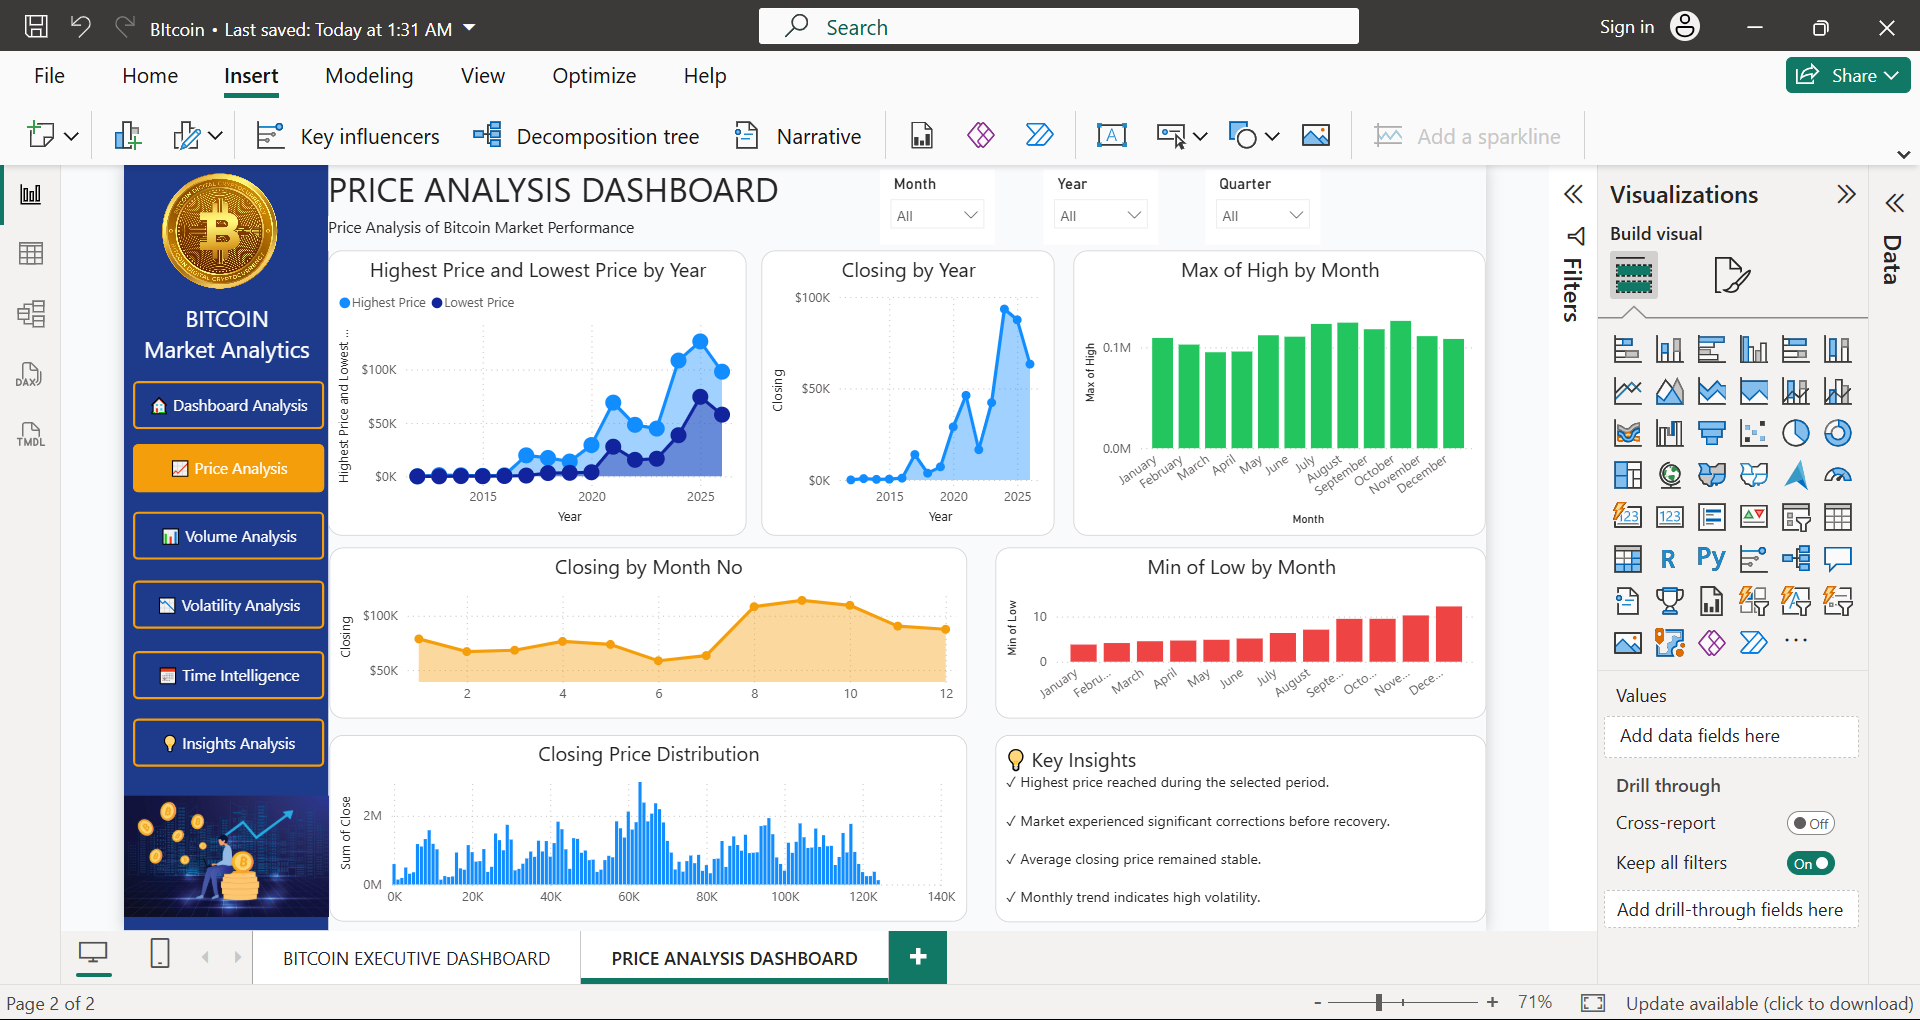

Layout of this report page (visuals, bound fields, positions):
{"tool":"powerbi","page":{"name":"PRICE ANALYSIS DASHBOARD","canvas":[1280,720],"ordinal":1},"visuals":[{"type":"shape","box":[0,0,192.3,719.2],"z":0},{"type":"image","box":[0,0,180.2,124.2],"z":1000},{"type":"textbox","box":[1.5,124.1,190.6,80.2],"z":2000},{"type":"actionButton","box":[7.8,203.2,179.7,45.3],"z":3000},{"type":"actionButton","box":[7.8,262.6,179.7,45.3],"z":4000},{"type":"actionButton","box":[7.8,390.7,179.7,45.3],"z":5000},{"type":"actionButton","box":[7.8,325.1,179.7,45.3],"z":6000},{"type":"actionButton","box":[7.8,456.4,179.7,45.3],"z":7000},{"type":"actionButton","box":[7.8,520.5,179.7,45.3],"z":8000},{"type":"image","box":[0,579,192.5,140.4],"z":9000},{"type":"shape","title":"PRICE ANALYSIS DASHBOARD","box":[191.8,0,1088.5,80.4],"z":10000},{"type":"shape","box":[701.8,0,578.3,79.7],"z":11000},{"type":"slicer","fields":{"Values":["Bitcoin_Cleaned_Daily.Month"]},"box":[711.2,4.7,107.8,70.3],"z":12000},{"type":"slicer","fields":{"Values":["Bitcoin_Cleaned_Daily.Year"]},"box":[864.3,4.7,107.8,70.3],"z":13000},{"type":"slicer","fields":{"Values":["Bitcoin_Cleaned_Daily.Quarter"]},"box":[1015.9,4.7,107.8,70.3],"z":14000},{"type":"lineChart","fields":{"Category":["Bitcoin_Cleaned_Daily.Date.Variation.Date Hierarchy.Year"],"Y":["Bitcoin_Cleaned_Daily.Highest Price","Bitcoin_Cleaned_Daily.Lowest Price"]},"box":[192.2,80.2,393.4,267.8],"z":15000},{"type":"lineChart","fields":{"Y":["Bitcoin_Cleaned_Daily.Closing"],"Category":["Bitcoin_Cleaned_Daily.Month No"]},"box":[193.7,360.1,599.1,160.4],"z":16000},{"type":"lineChart","fields":{"Category":["Bitcoin_Cleaned_Daily.Date.Variation.Date Hierarchy.Year"],"Y":["Bitcoin_Cleaned_Daily.Closing"]},"box":[599.1,80.2,275.4,267.8],"z":17000},{"type":"clusteredColumnChart","fields":{"Y":["Max(Bitcoin_Cleaned_Daily.High)"],"Category":["Bitcoin_Cleaned_Daily.Date.Variation.Date Hierarchy.Month"]},"box":[892.7,80.2,387.3,267.8],"z":18000},{"type":"clusteredColumnChart","fields":{"Category":["Bitcoin_Cleaned_Daily.Date.Variation.Date Hierarchy.Month"],"Y":["Min(Bitcoin_Cleaned_Daily.Low)"]},"box":[818.5,360.1,461.5,160.4],"z":19000},{"type":"clusteredColumnChart","title":"Closing Price Distribution","fields":{"Category":["Bitcoin_Cleaned_Daily.Close (bins)"],"Y":["Sum(Bitcoin_Cleaned_Daily.Close)"]},"box":[193.7,535.6,599.1,175.5],"z":20000},{"type":"textbox","box":[819,536,461,176],"z":21000}]}

Visuals, with their boxes on the page's 1280x720 design canvas (x1, y1, x2, y2). These are canvas units, not pixel positions in the 1920x1020 screenshot, which may show the page scaled, cropped or inside an application window:
shape: {"left": 0, "top": 0, "right": 192, "bottom": 719}
image: {"left": 0, "top": 0, "right": 180, "bottom": 124}
textbox: {"left": 2, "top": 124, "right": 192, "bottom": 204}
actionButton: {"left": 8, "top": 203, "right": 188, "bottom": 248}
actionButton: {"left": 8, "top": 263, "right": 188, "bottom": 308}
actionButton: {"left": 8, "top": 391, "right": 188, "bottom": 436}
actionButton: {"left": 8, "top": 325, "right": 188, "bottom": 370}
actionButton: {"left": 8, "top": 456, "right": 188, "bottom": 502}
actionButton: {"left": 8, "top": 520, "right": 188, "bottom": 566}
image: {"left": 0, "top": 579, "right": 192, "bottom": 719}
"PRICE ANALYSIS DASHBOARD" shape: {"left": 192, "top": 0, "right": 1280, "bottom": 80}
shape: {"left": 702, "top": 0, "right": 1280, "bottom": 80}
slicer - Bitcoin_Cleaned_Daily.Month: {"left": 711, "top": 5, "right": 819, "bottom": 75}
slicer - Bitcoin_Cleaned_Daily.Year: {"left": 864, "top": 5, "right": 972, "bottom": 75}
slicer - Bitcoin_Cleaned_Daily.Quarter: {"left": 1016, "top": 5, "right": 1124, "bottom": 75}
lineChart - Bitcoin_Cleaned_Daily.Date.Variation.Date Hierarchy.Year x Bitcoin_Cleaned_Daily.Highest Price: {"left": 192, "top": 80, "right": 586, "bottom": 348}
lineChart - Bitcoin_Cleaned_Daily.Closing x Bitcoin_Cleaned_Daily.Month No: {"left": 194, "top": 360, "right": 793, "bottom": 520}
lineChart - Bitcoin_Cleaned_Daily.Date.Variation.Date Hierarchy.Year x Bitcoin_Cleaned_Daily.Closing: {"left": 599, "top": 80, "right": 874, "bottom": 348}
clusteredColumnChart - Max(Bitcoin_Cleaned_Daily.High) x Bitcoin_Cleaned_Daily.Date.Variation.Date Hierarchy.Month: {"left": 893, "top": 80, "right": 1280, "bottom": 348}
clusteredColumnChart - Bitcoin_Cleaned_Daily.Date.Variation.Date Hierarchy.Month x Min(Bitcoin_Cleaned_Daily.Low): {"left": 818, "top": 360, "right": 1280, "bottom": 520}
"Closing Price Distribution" clusteredColumnChart: {"left": 194, "top": 536, "right": 793, "bottom": 711}
textbox: {"left": 819, "top": 536, "right": 1280, "bottom": 712}
